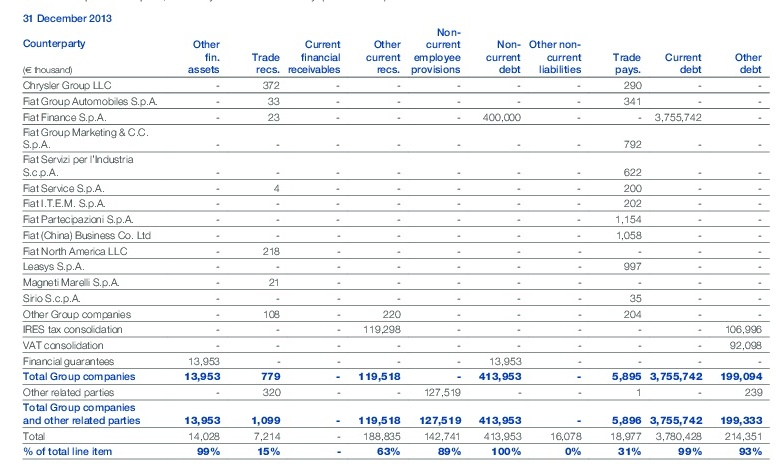table: (0, 0, 783, 473)
